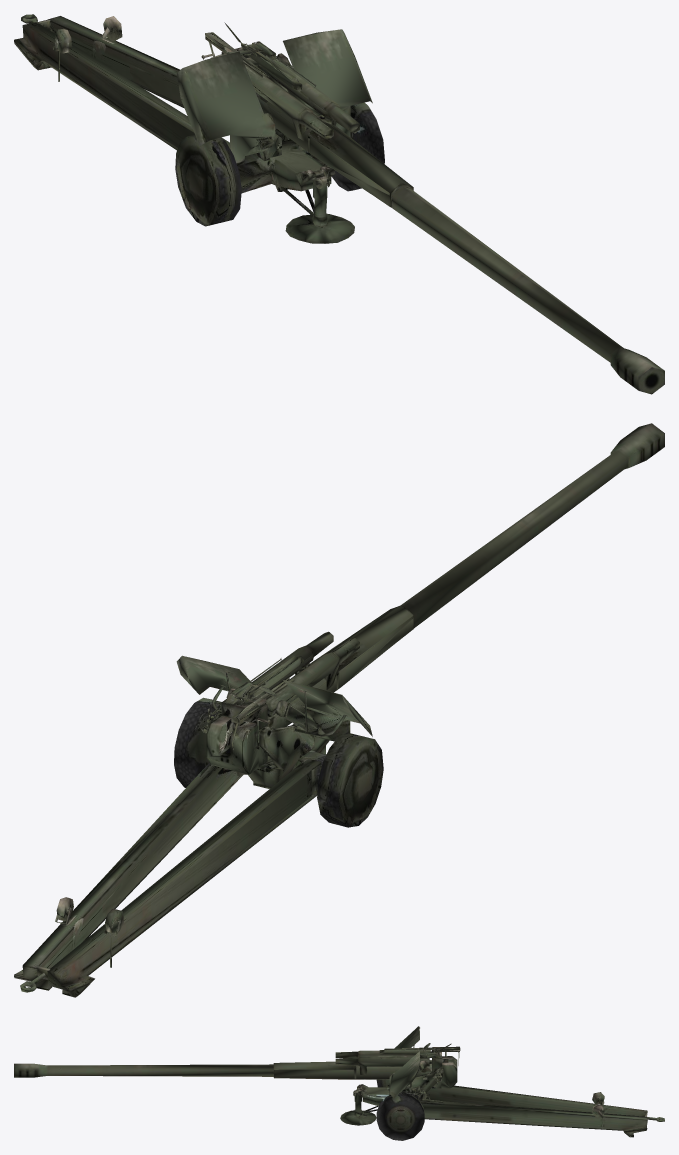
The model's file is realistic-by.76880fe3d732.howitzer.glb.
3 renders of one model, top to bottom at view 1: azimuth 30°, elevation 25°; view 2: azimuth 150°, elevation 25°; view 3: azimuth 270°, elevation 25°, orthographic. The views are drawn at different scales.
Visible parts, largest first — view 1: howitzer; view 2: howitzer; view 3: howitzer.
Boxes of the visible parts, x1,y1,x2,y2 form: howitzer: (14,14,664,394); howitzer: (14,423,664,997); howitzer: (14,1026,664,1140).
Size of the model in its own units: 1.93 by 1.8 by 12.
Materials: 1 (1 with a texture image).
